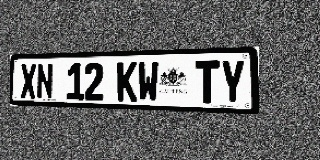1: (67, 63, 84, 100)
2: (85, 62, 103, 101)
K: (117, 62, 137, 101)
N: (37, 63, 53, 99)
T: (195, 60, 219, 104)
W: (138, 61, 159, 102)
X: (21, 64, 36, 99)
Y: (220, 59, 245, 104)
